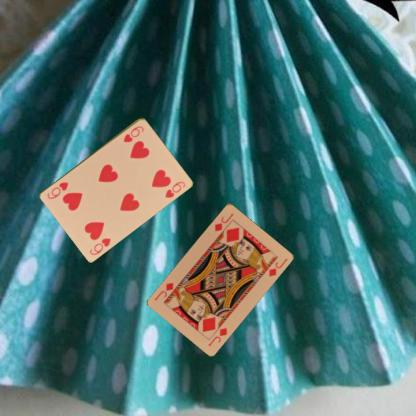6h: (87, 235, 112, 256), (121, 123, 145, 144)
Jd: (212, 210, 234, 233), (206, 325, 228, 347)
